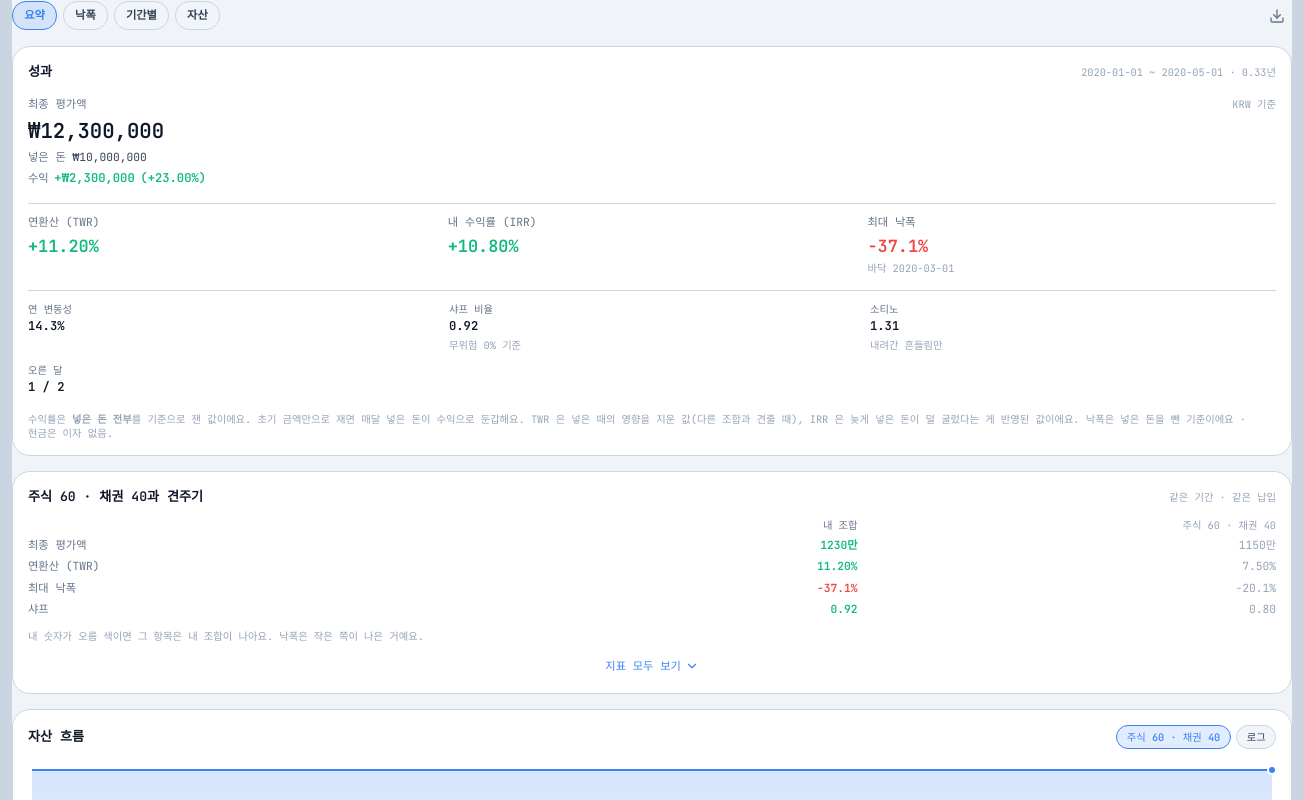
Test case: 주요 지표 › 사진에 있던 것들을 다 적는다
The image size is (1304, 800).
Click the button "지표 모두 보기": (652, 666) [605,655,699,678]
(page scrolled)
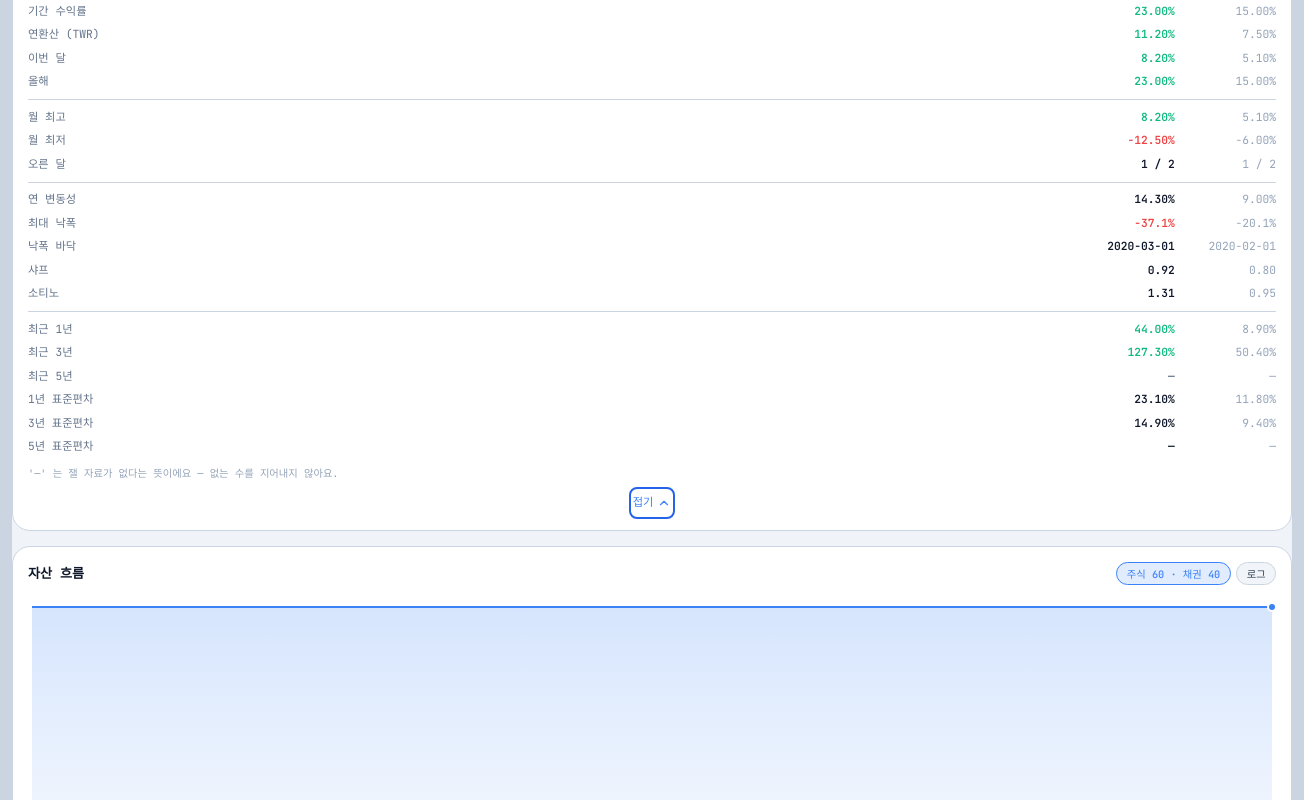
expect the text "기간 수익률" is shown: met, box [28,4,86,18]
expect the text "연환산 (TWR)" is shown: met, box [28,27,100,41]
expect the text "이번 달" is shown: met, box [28,51,66,65]
